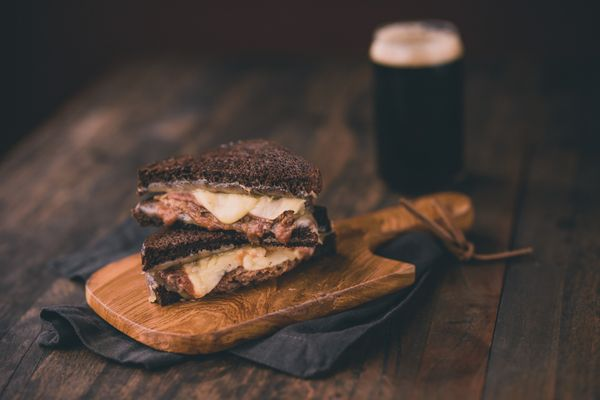soup: (133, 138, 329, 304)
